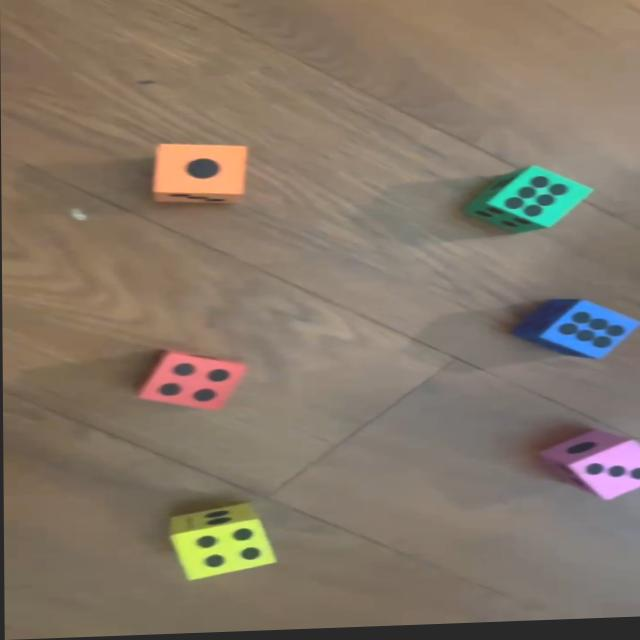blue_block: (515, 301, 640, 367)
red_block: (138, 348, 248, 415)
